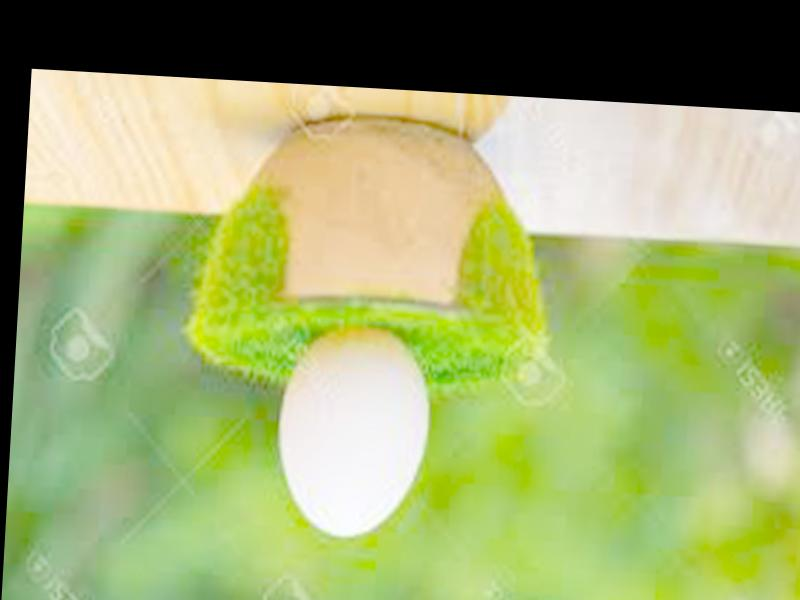Eggs: (276, 322, 436, 537)
